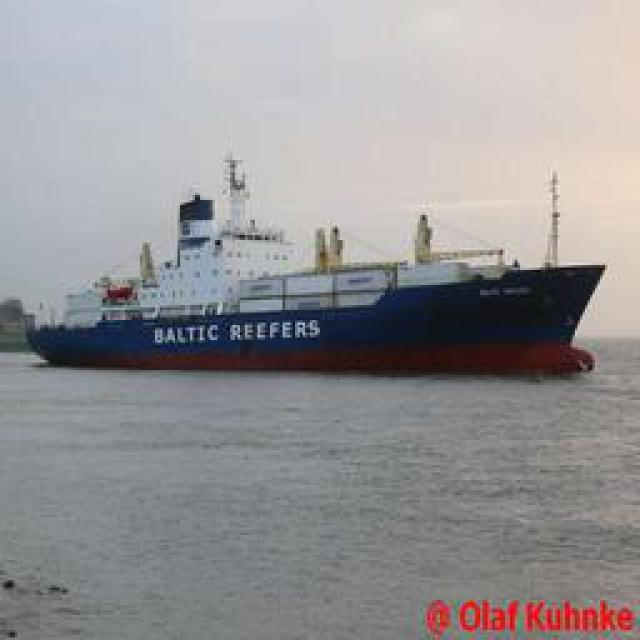Ship: (29, 158, 609, 373)
